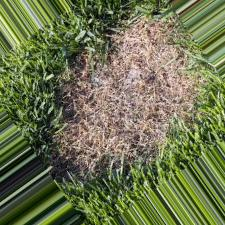patch: (62, 77, 133, 165), (127, 31, 157, 140), (147, 47, 179, 117)
